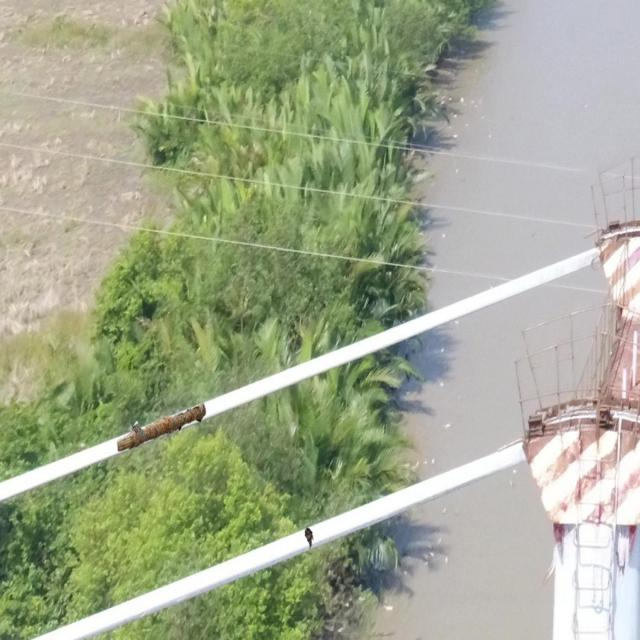corrosion: (115, 404, 208, 454), (304, 528, 314, 550)
